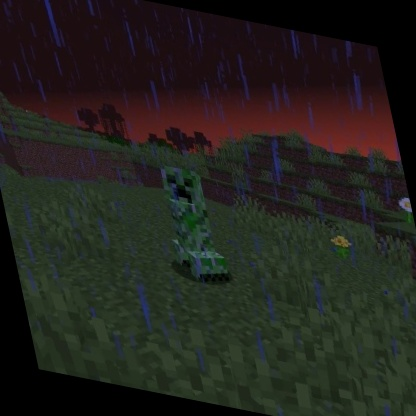creeper: (150, 160, 238, 293)
